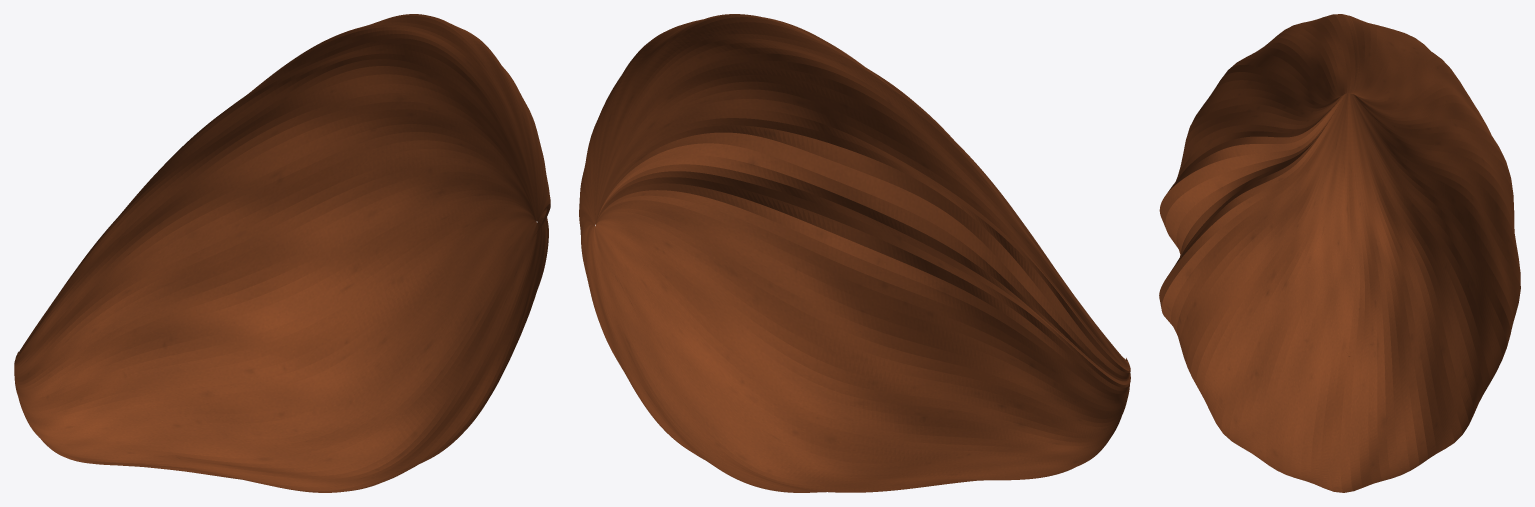
Rendered from liberica.glb.
The picture shows the model from 3 angles, left to right: view 1: azimuth 30°, elevation 25°; view 2: azimuth 150°, elevation 25°; view 3: azimuth 270°, elevation 25°; orthographic projection. The views are drawn at different scales.
Parts seen in each view (by area): view 1: world; view 2: world; view 3: world.
Part boxes in pixels (x1,y1,x2,y2): world: (14, 14, 550, 492); world: (579, 14, 1130, 492); world: (1159, 14, 1520, 492).
Bounding box in the file's own units: 1.32 × 1.04 × 0.7433.
Materials: 1 (1 with a texture image).
